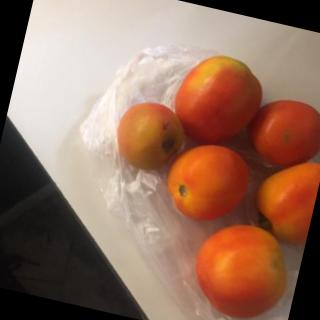Tomat: (67, 14, 320, 320)
